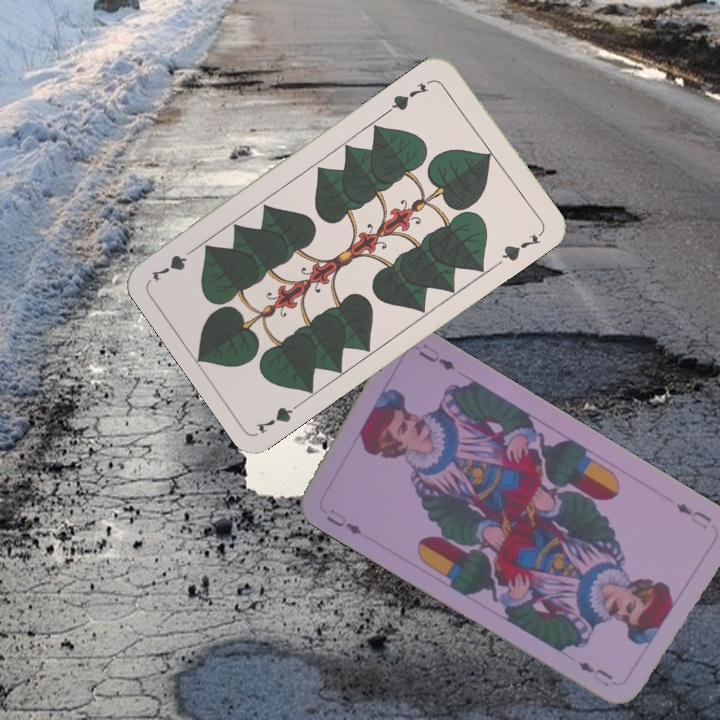EU: (322, 504, 365, 537), (672, 499, 714, 528)
G7: (252, 396, 307, 437), (385, 78, 431, 115)
